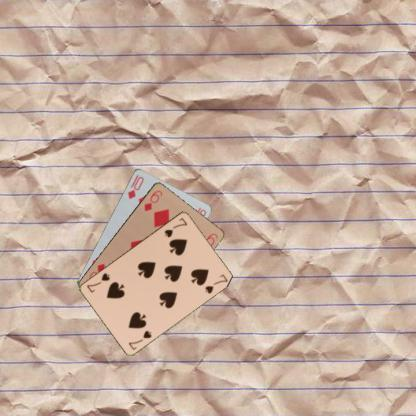10d: (125, 172, 145, 200)
6d: (141, 187, 164, 212)
7s: (126, 328, 153, 352), (162, 216, 188, 238)
